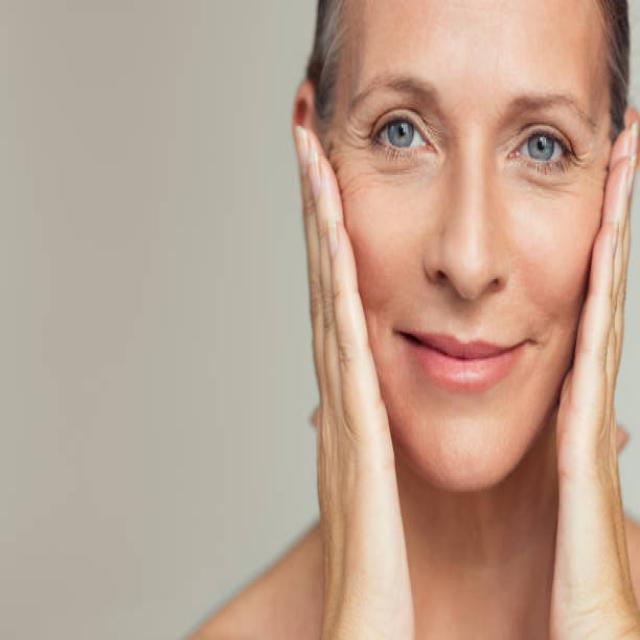Dry-Skin: (320, 102, 373, 254), (569, 145, 613, 254)
